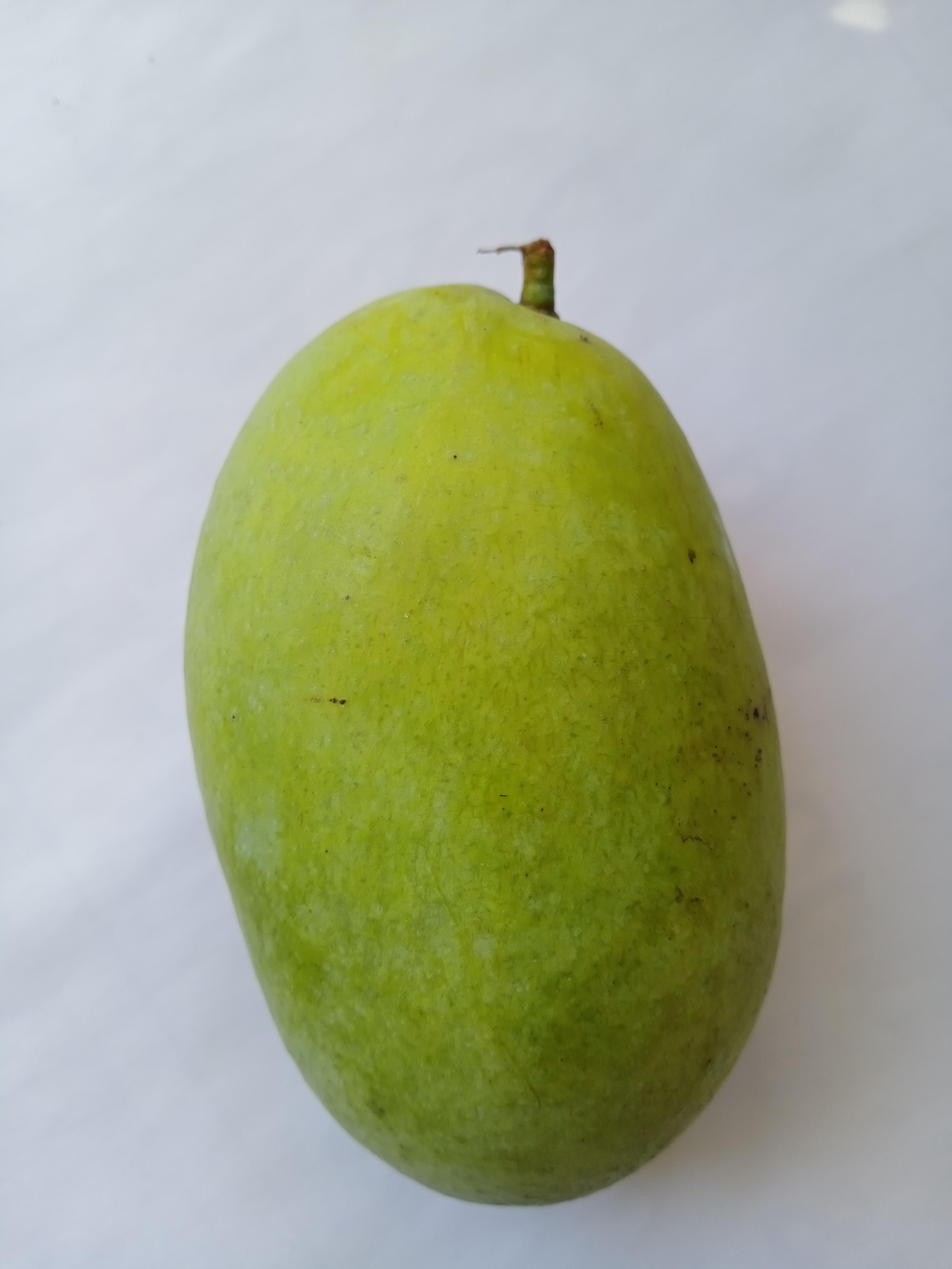Mango Unripe: (179, 168, 785, 1217)
